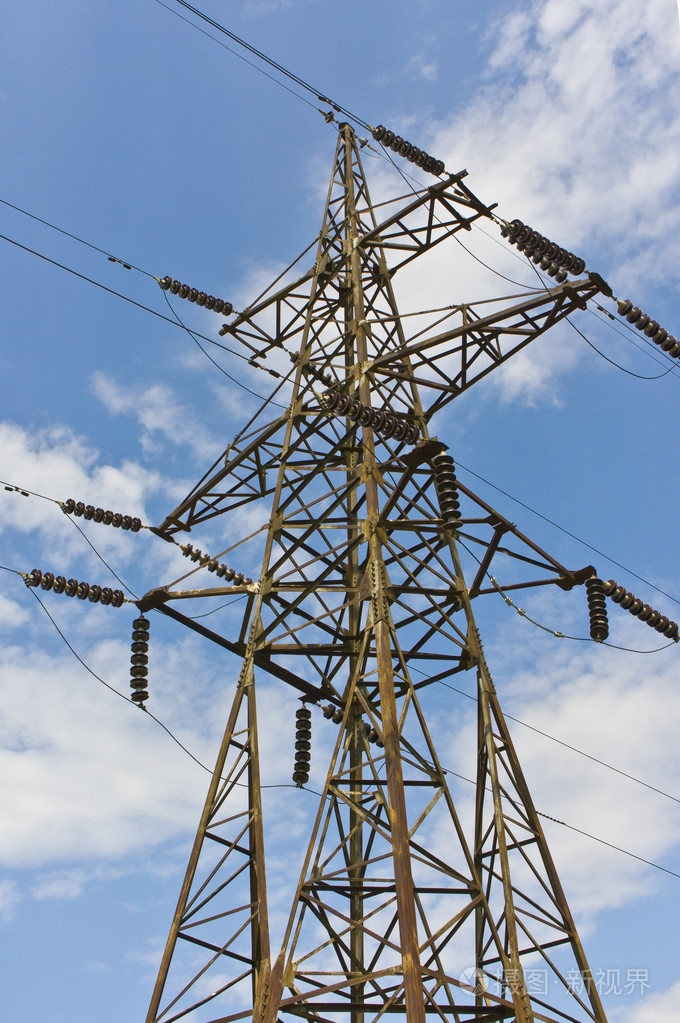insulator: (500, 216, 583, 284), (321, 392, 424, 446), (603, 573, 680, 643), (610, 294, 680, 361), (22, 570, 124, 610), (373, 121, 443, 175), (153, 275, 238, 316), (178, 539, 249, 586), (428, 451, 467, 531), (123, 619, 158, 705), (62, 497, 143, 533), (327, 705, 384, 749), (289, 706, 318, 789), (582, 572, 612, 649)
